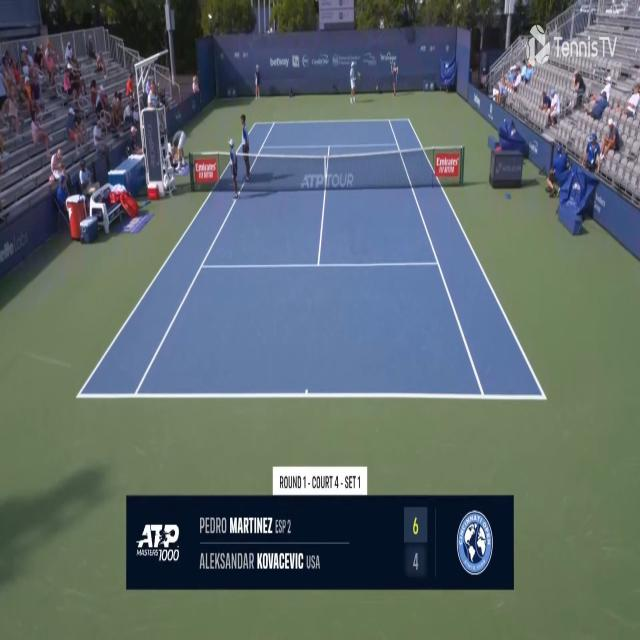tennis-player: (349, 60, 360, 105)
